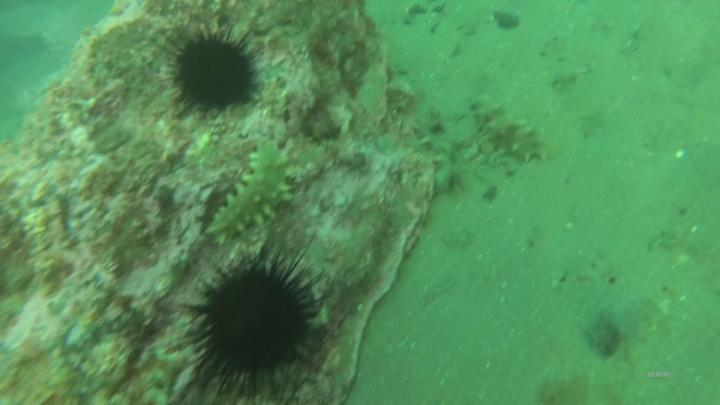echinus: (170, 245, 337, 405), (149, 19, 271, 125)
holothurian: (203, 138, 297, 246), (469, 93, 551, 166), (411, 108, 472, 194)
